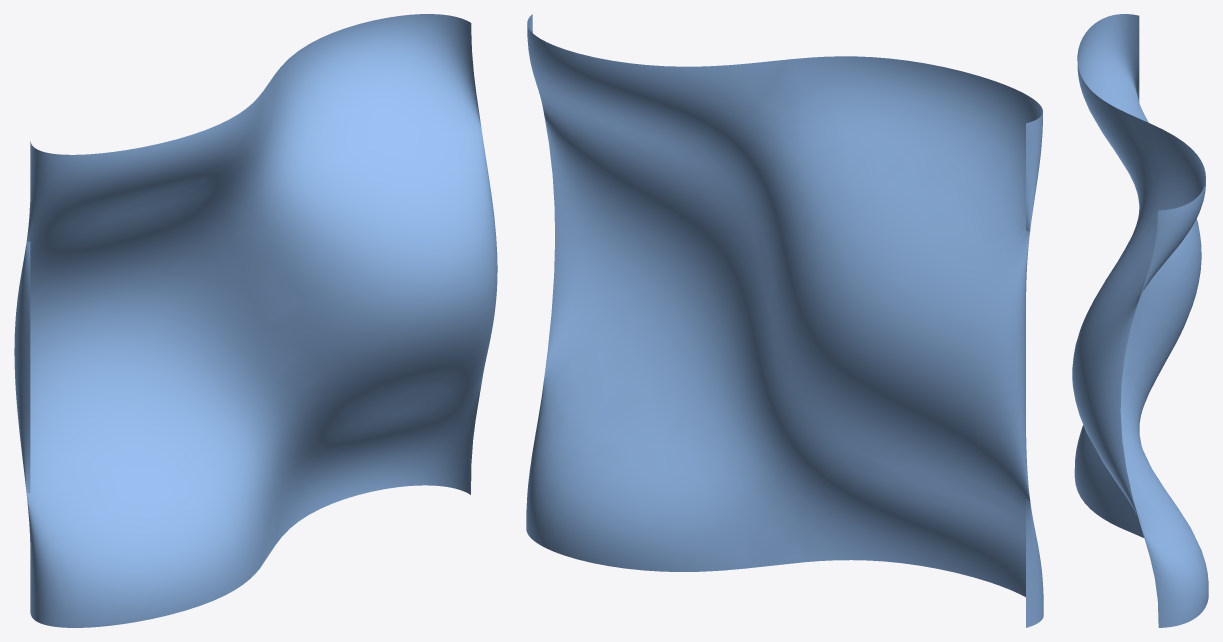
Rendered from points-grid.glb.
The picture shows the model from 3 angles, left to right: view 1: azimuth 30°, elevation 25°; view 2: azimuth 150°, elevation 25°; view 3: azimuth 270°, elevation 25°; orthographic projection. The views are drawn at different scales.
Visible parts, largest first — view 1: FACE; view 2: FACE; view 3: FACE.
Boxes of the visible parts, <box> form: FACE: <box>14,14,497,627</box>; FACE: <box>526,14,1043,627</box>; FACE: <box>1072,14,1208,627</box>.
Bounding box in the file's own units: 20.17 × 20 × 5.92.
